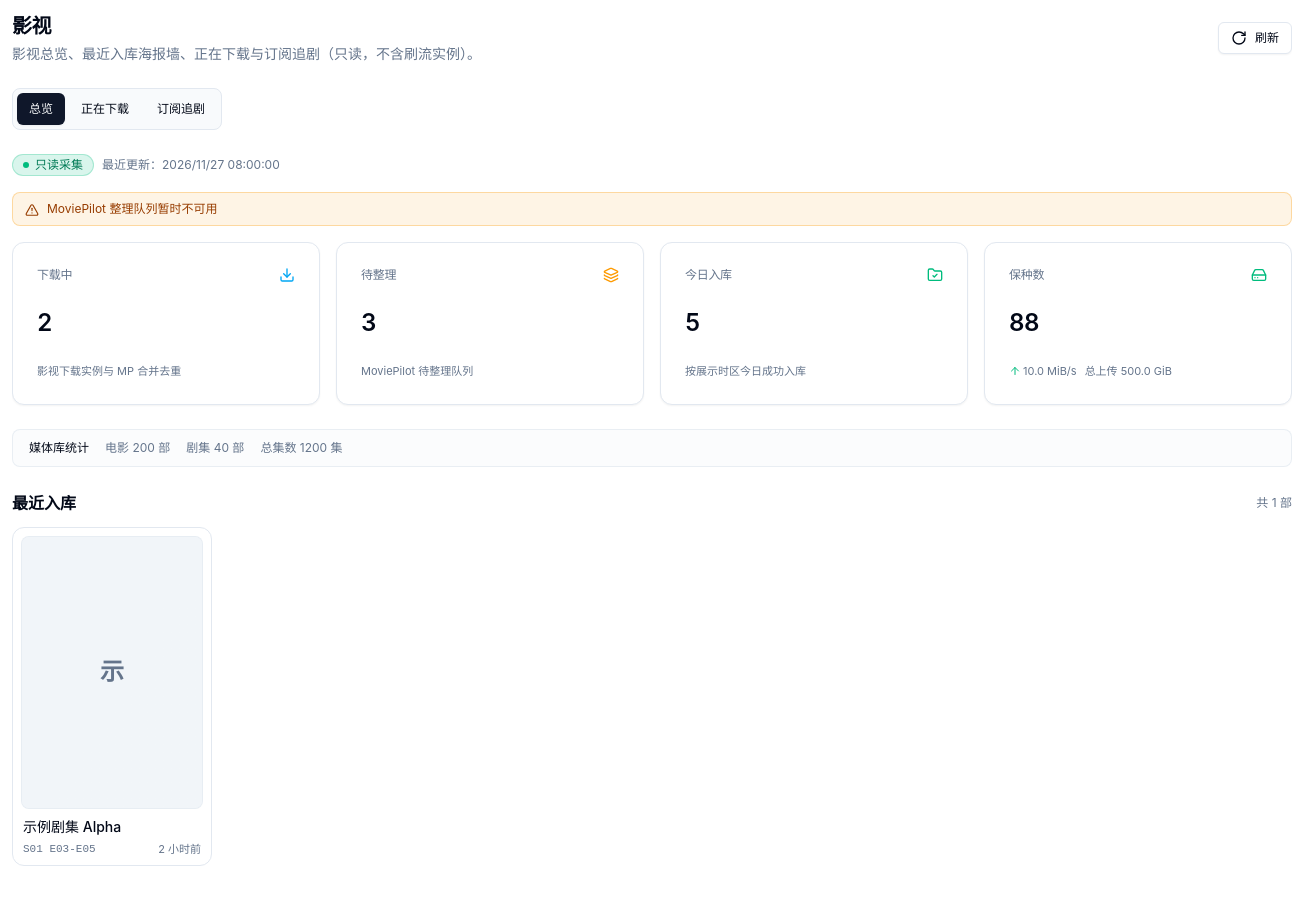
Scenario: MediaPage 影视模块三页签 › 渲染总览页签统计条、最近入库海报墙与 warnings，并支持切换正在下载与订阅追剧页签
The image size is (1304, 912).
Expected: the text "MoviePilot 整理队列暂时不可用" is shown, [47,201,217,217]
Expected: the text "88" is shown, [1009,307,1039,339]
切换正在下载页签
Click the tab "正在下载" at [105, 109], box [69,93,141,125]
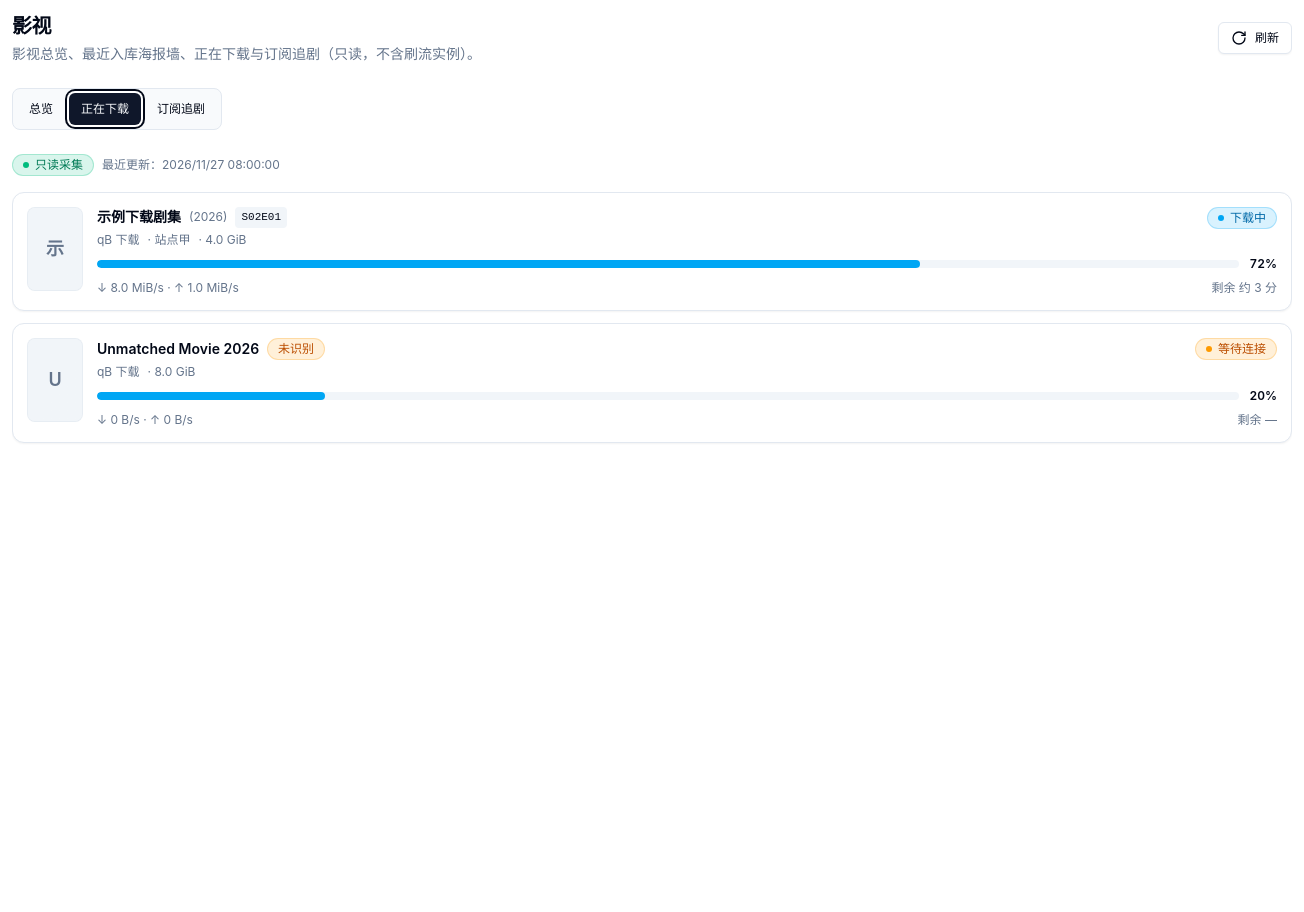
Now the text "示例下载剧集" is shown, box [97,207,181,227]
Now the text "S02E01" is shown, box [235,207,287,228]
Now the text "Unmatched Movie 2026" is shown, box [97,338,259,358]
切换订阅追剧页签
Click the tab "订阅追剧" at [181, 109], box [145,93,217,125]
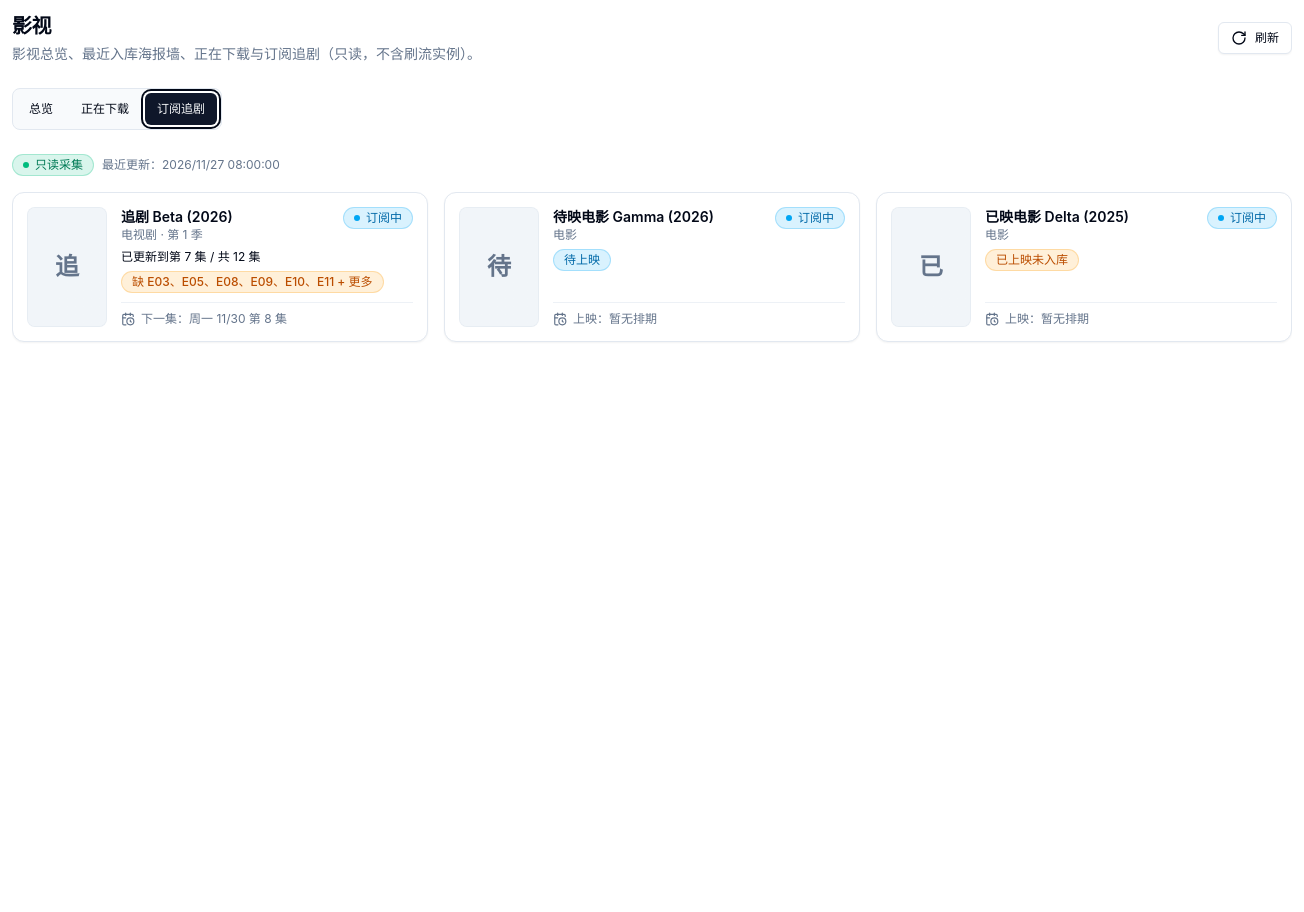
Now the heading "追剧 Beta (2026)" is shown, box [121,208,233,225]
Now the text "已更新到第 7 集 / 共 12 集" is shown, box [121,249,261,264]
Now the text "缺 E03、E05、E08、E09、E10、E11 + 更多" is shown, box [132,274,373,290]
